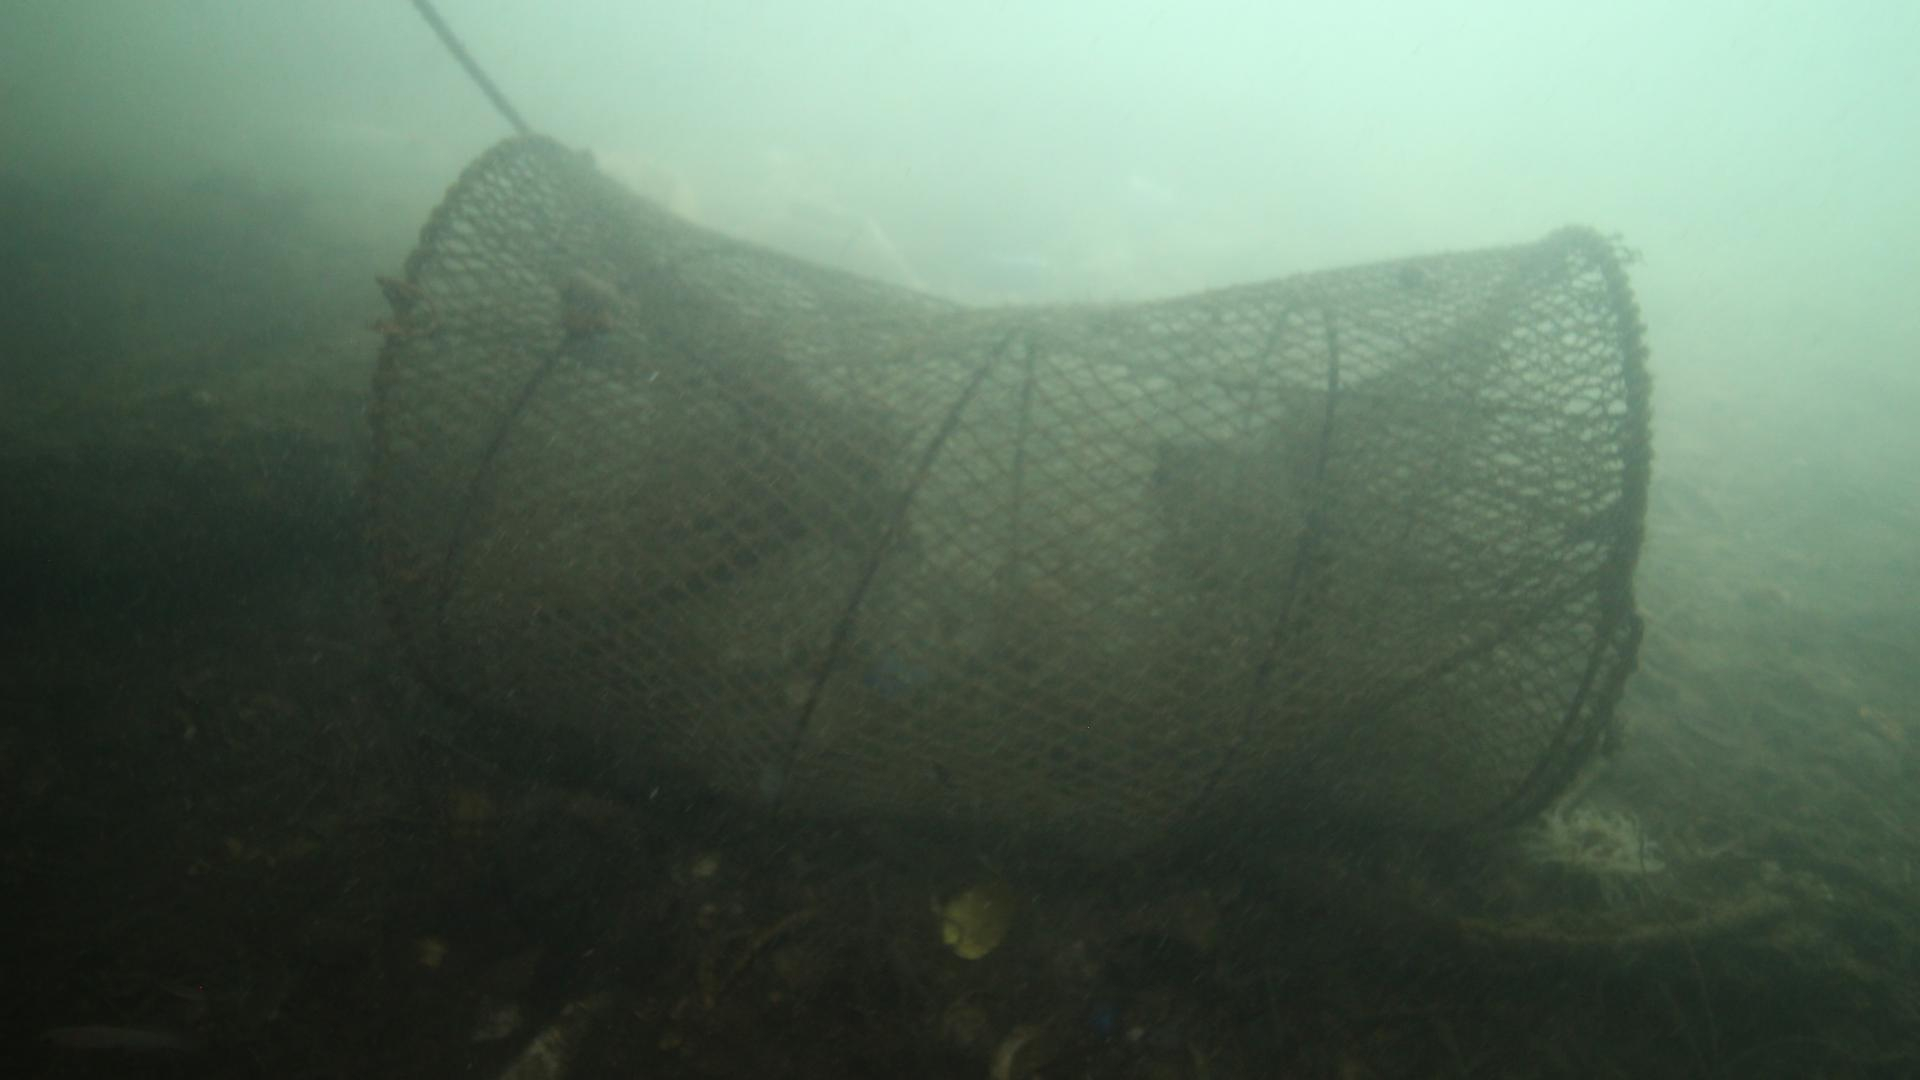spring fish trap: (365, 131, 1652, 889)
